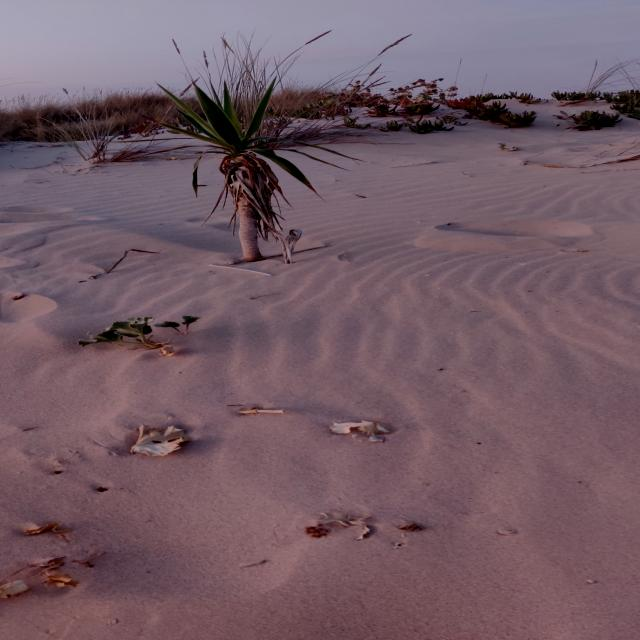Plastic straw: (208, 264, 270, 276)
